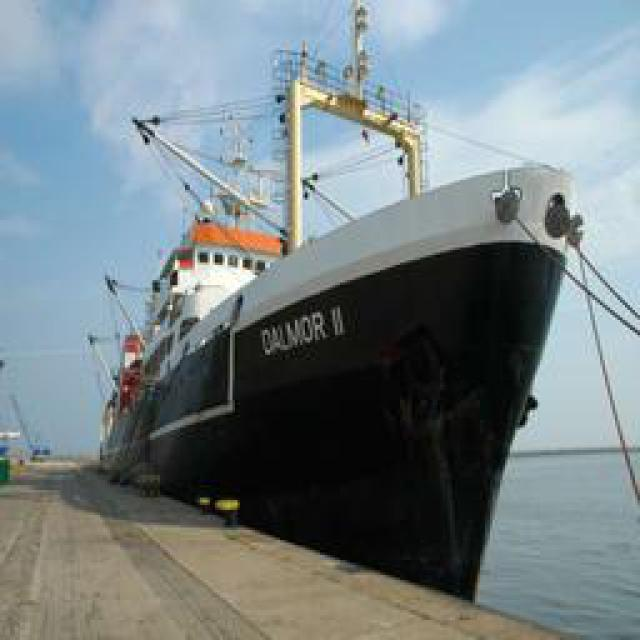Ship: (111, 100, 594, 610)
